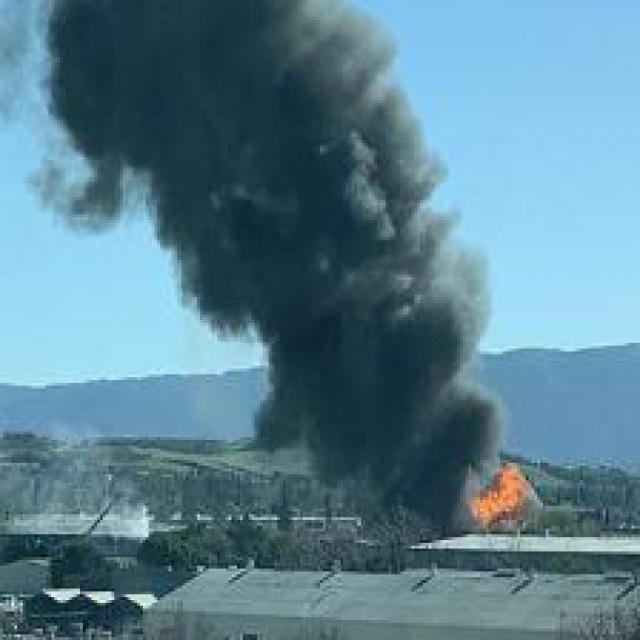fire: (454, 454, 537, 526)
